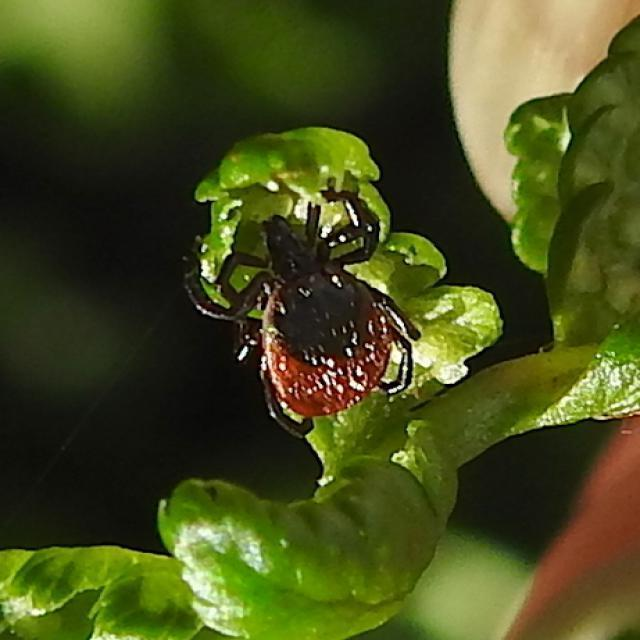Ixodes Ricinus-F: (185, 195, 421, 435)
